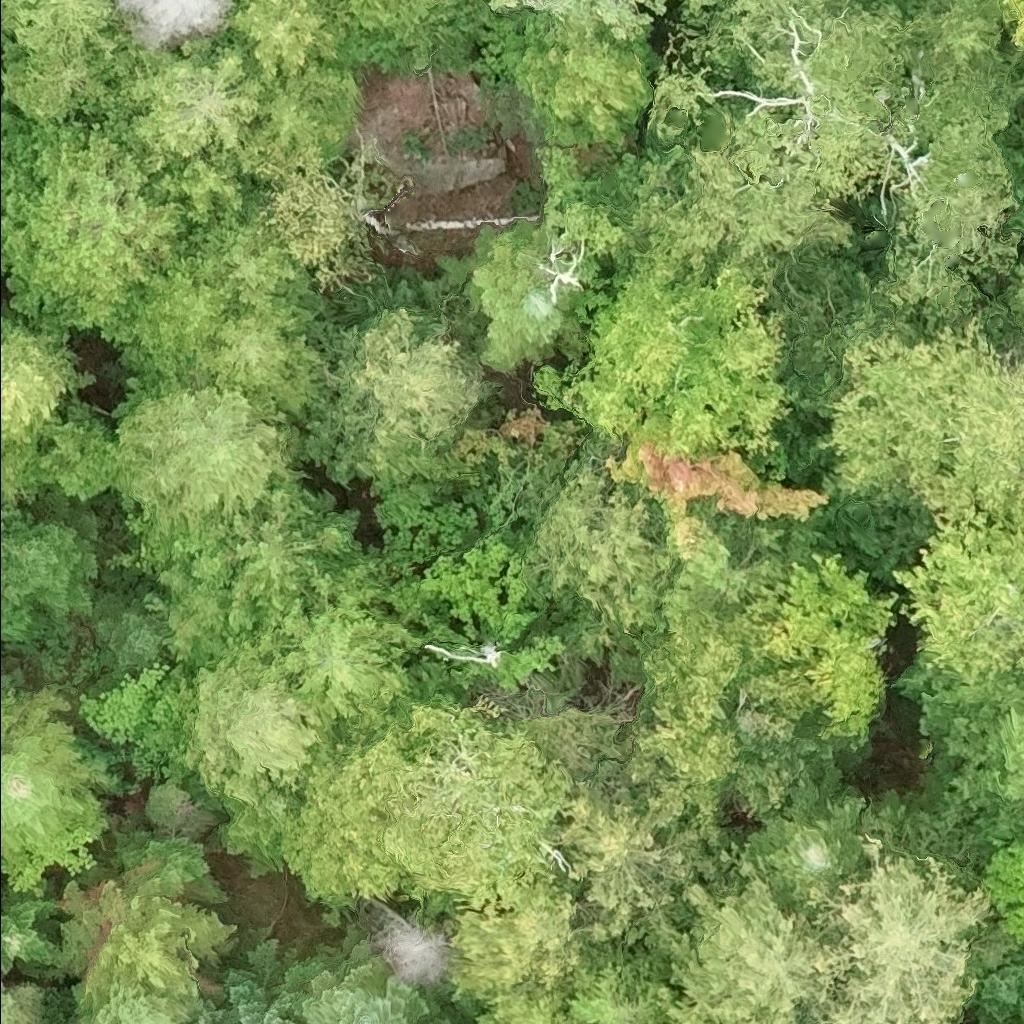crown: (665, 0, 1023, 307), (558, 231, 793, 457), (809, 314, 1023, 525), (0, 98, 192, 330), (796, 835, 1016, 1023), (365, 709, 580, 897), (608, 407, 834, 563), (303, 307, 501, 483), (103, 377, 313, 527), (252, 553, 417, 741), (561, 792, 735, 963), (670, 837, 823, 1016), (894, 648, 1023, 860), (0, 661, 124, 875), (100, 26, 266, 183), (176, 635, 327, 804), (642, 538, 783, 708), (436, 215, 578, 377), (500, 12, 662, 150), (223, 480, 364, 635), (894, 516, 1023, 685), (533, 468, 663, 635), (185, 174, 324, 314), (282, 751, 405, 905), (88, 893, 236, 1017), (170, 304, 328, 418), (747, 769, 870, 914), (95, 251, 233, 380), (384, 533, 537, 647), (261, 146, 381, 289), (280, 923, 450, 1023), (632, 684, 741, 835), (446, 883, 582, 1004), (0, 291, 100, 442), (78, 662, 194, 781), (246, 63, 362, 175), (0, 485, 98, 616), (221, 0, 362, 89), (0, 33, 137, 121), (366, 480, 478, 585), (538, 143, 628, 254), (76, 583, 170, 688), (902, 0, 1014, 88), (341, 0, 477, 63), (365, 895, 456, 987), (33, 399, 113, 501), (476, 0, 675, 41), (218, 786, 304, 876), (219, 934, 304, 1023), (0, 0, 132, 55), (9, 826, 105, 897), (151, 156, 247, 223), (111, 0, 236, 51), (0, 897, 63, 975), (663, 989, 803, 1023), (82, 983, 197, 1023), (966, 943, 1023, 1023), (979, 843, 1023, 946), (481, 983, 587, 1023), (0, 434, 57, 503), (0, 499, 28, 600), (1002, 253, 1023, 332), (420, 999, 476, 1023), (997, 0, 1023, 51), (182, 1000, 234, 1023), (1006, 994, 1023, 1023), (1008, 218, 1023, 232), (956, 1014, 975, 1023)
